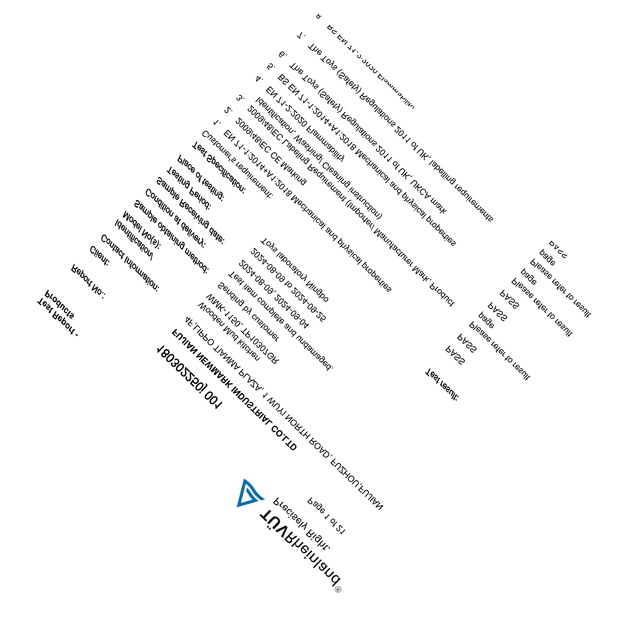tuv_rheinland: (232, 473, 352, 598)
